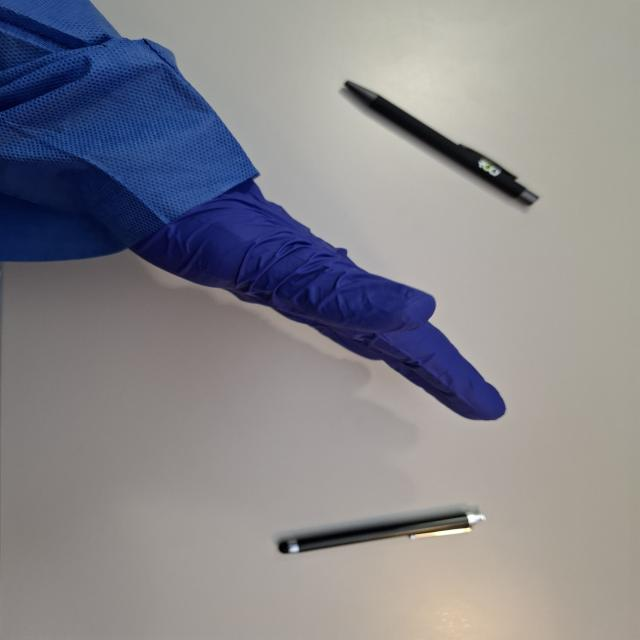glove_on: (123, 163, 509, 424)
